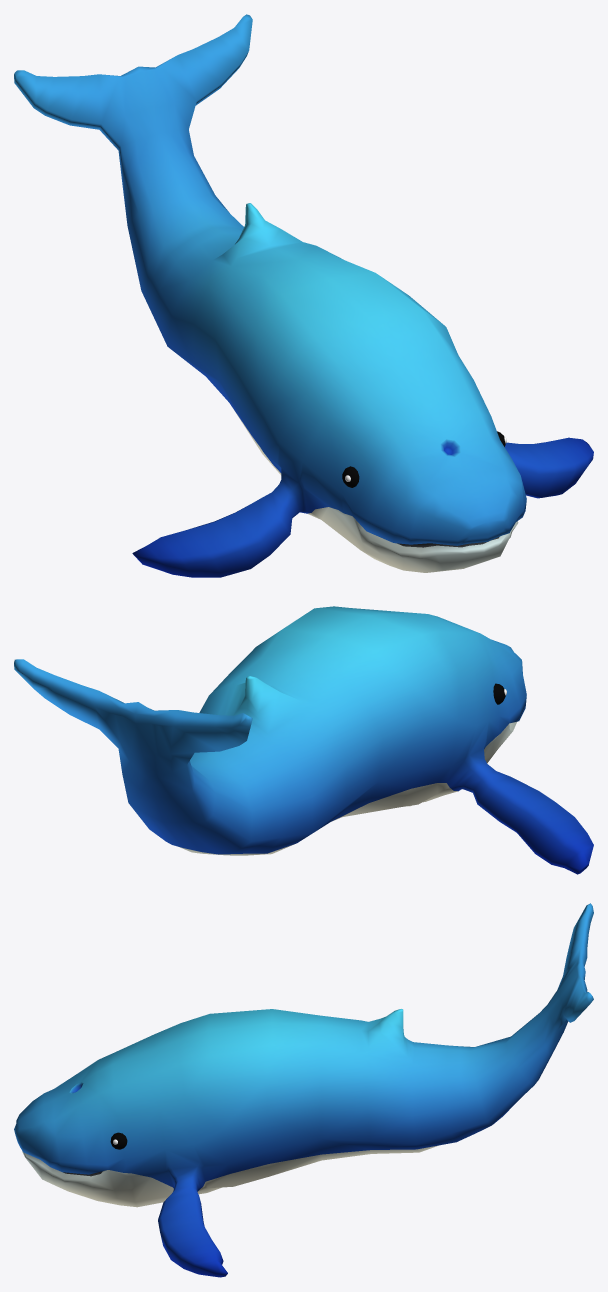
The model's file is 3DEC_08.fbx.
3 renders of one model, top to bottom at view 1: azimuth 30°, elevation 25°; view 2: azimuth 150°, elevation 25°; view 3: azimuth 270°, elevation 25°, orthographic. The views are drawn at different scales.
Visible parts, largest first — view 1: Plane; view 2: Plane; view 3: Plane.
Part boxes in pixels (<box>): Plane: <box>14,14,593,577</box>; Plane: <box>14,606,593,874</box>; Plane: <box>14,903,593,1277</box>.
Size of the model in its own units: 475 by 308 by 650.
